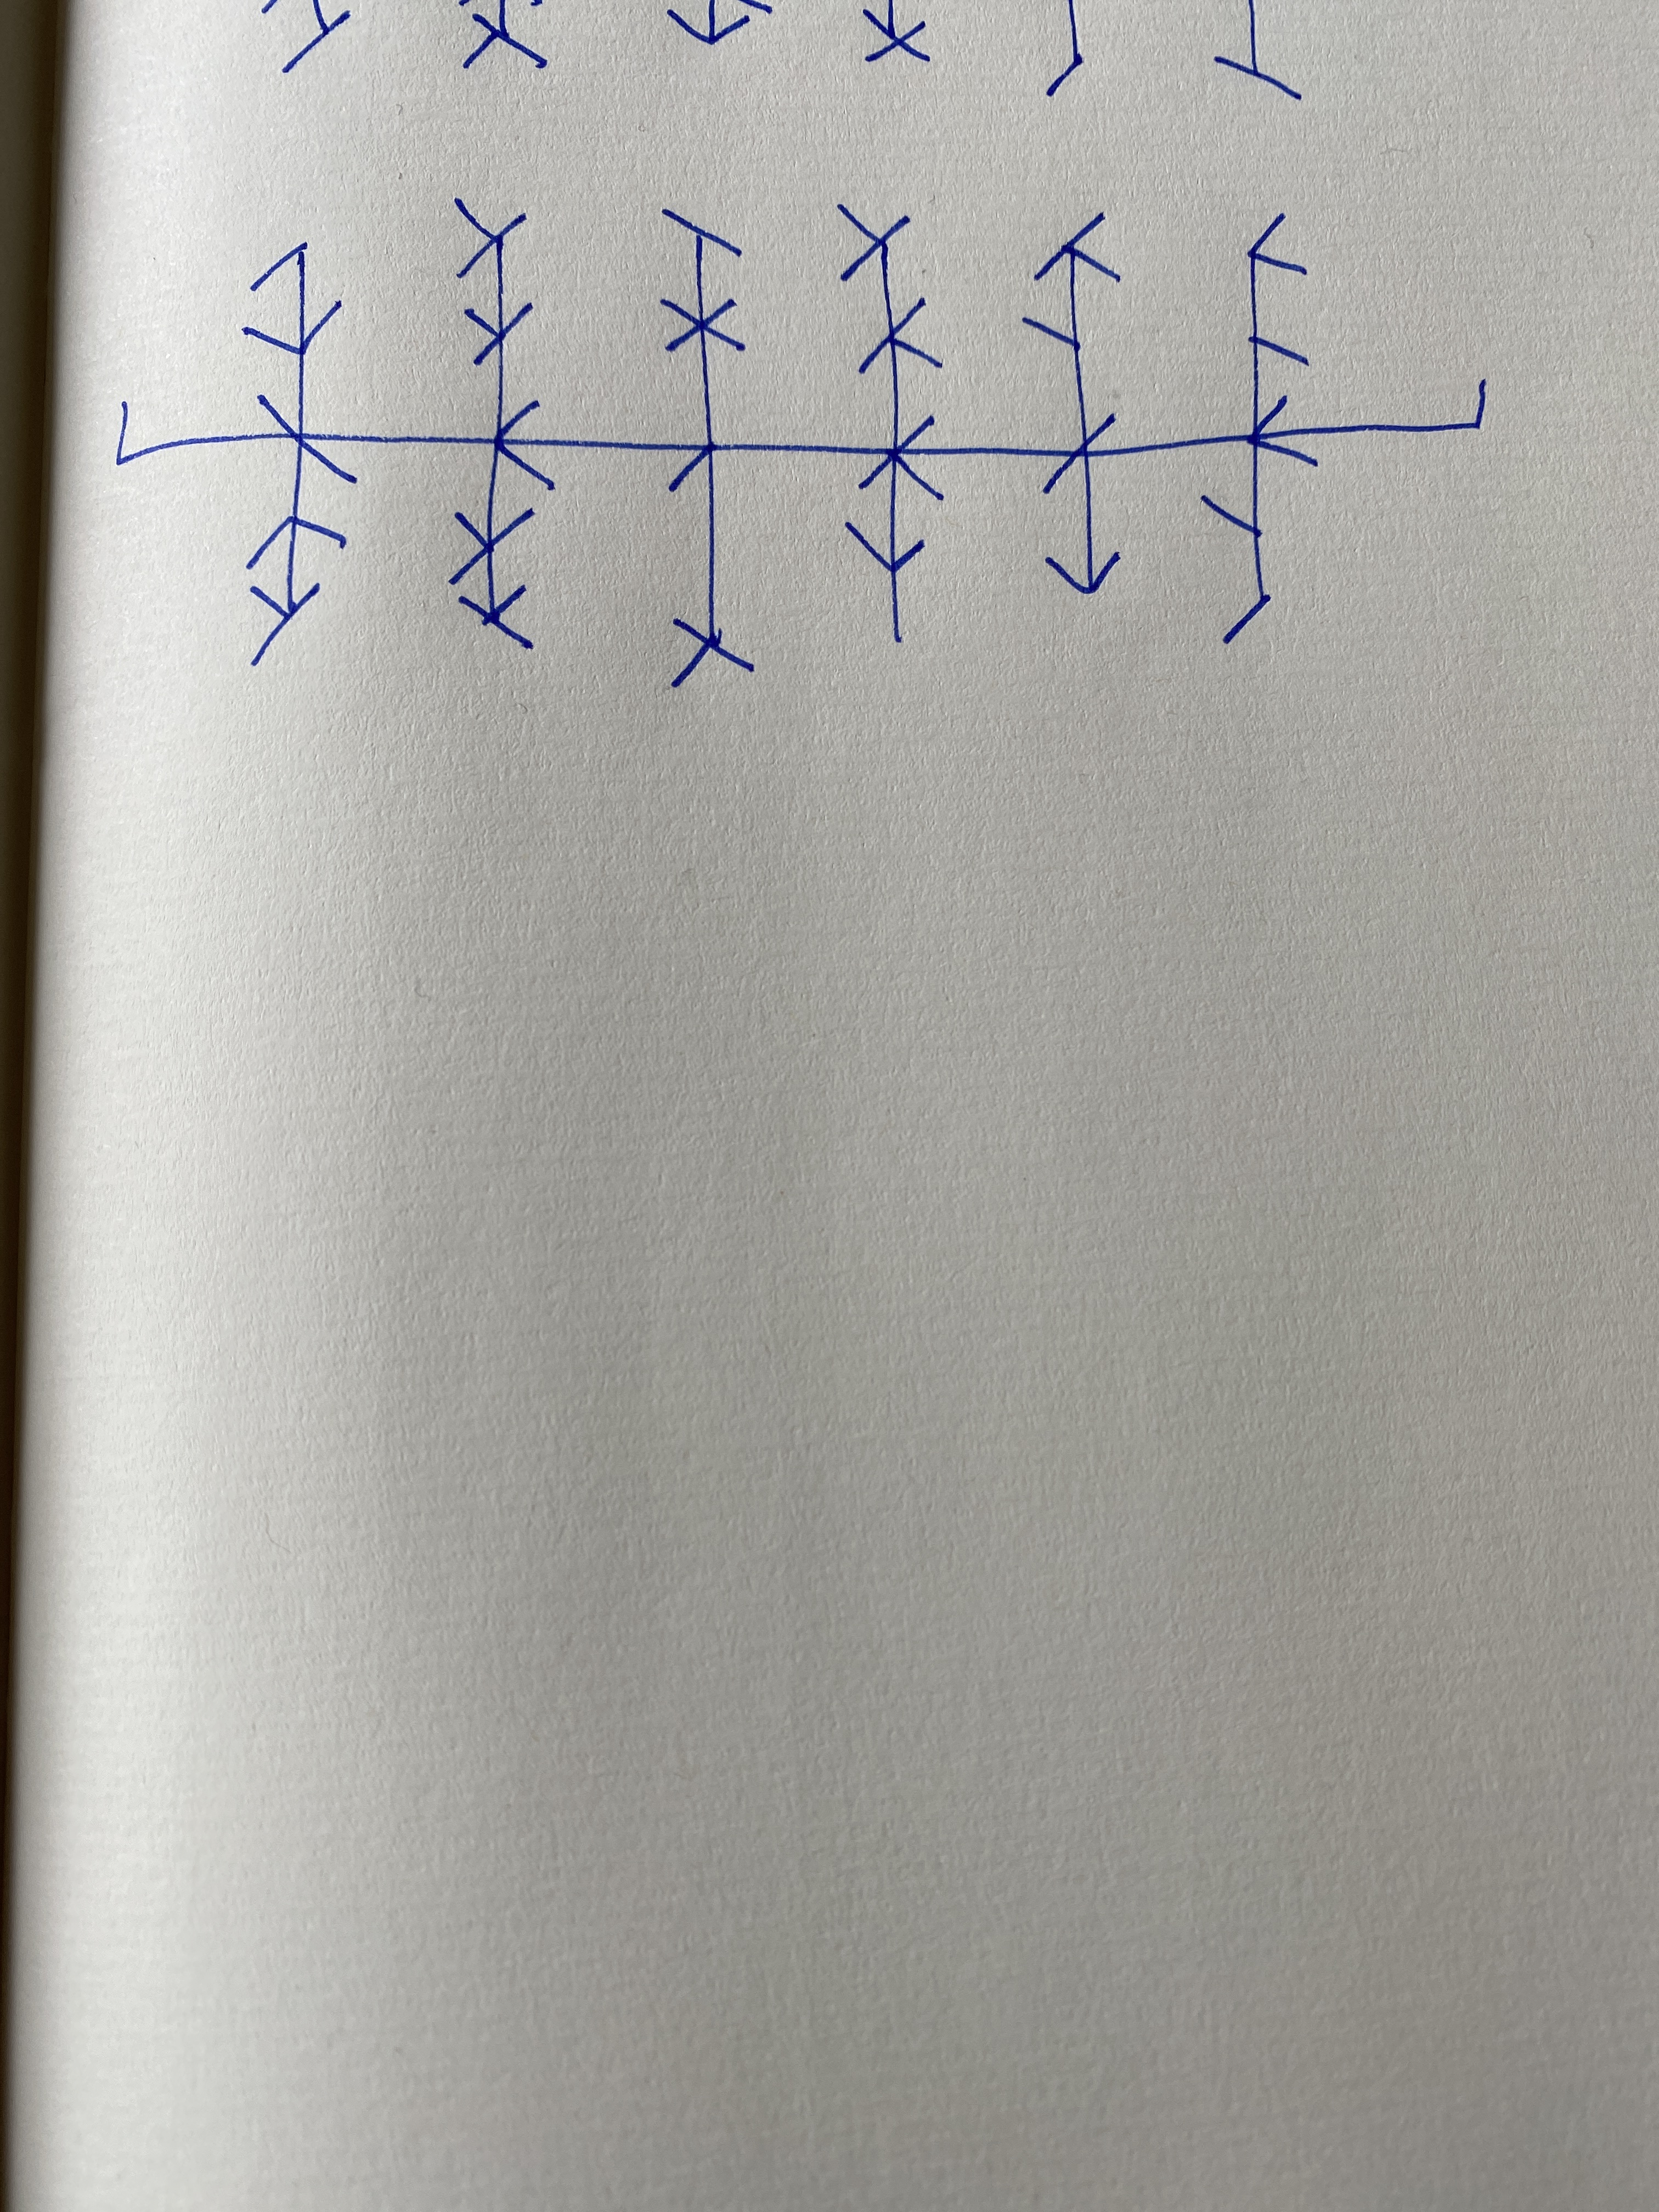Bar: (242, 240, 361, 669), (1201, 214, 1317, 644), (835, 204, 943, 643), (453, 199, 558, 650), (659, 209, 755, 690), (1023, 214, 1124, 594)
Barcode: (115, 195, 1488, 690)
End: (1288, 380, 1488, 437)
Start: (113, 402, 254, 467)
